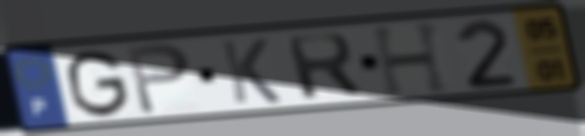2: (452, 17, 522, 91)
G: (64, 47, 133, 120)
H: (367, 19, 454, 99)
K: (217, 36, 285, 106)
P: (122, 41, 195, 118)
R: (282, 31, 366, 103)
